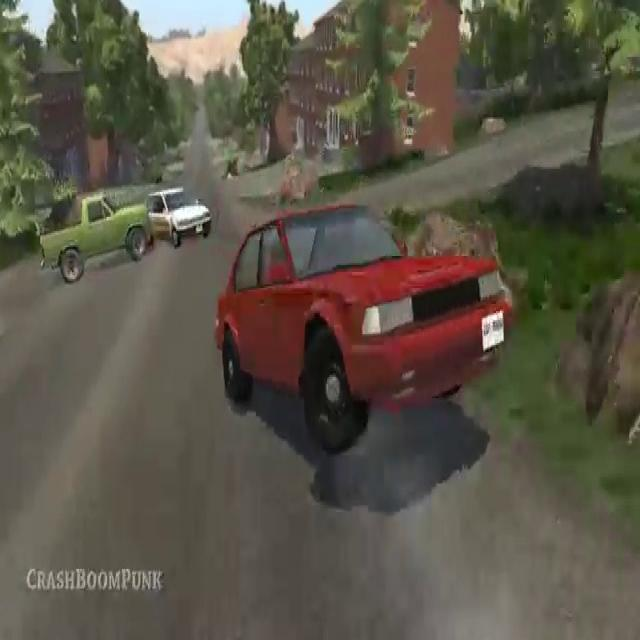moderate: (32, 160, 214, 284)
